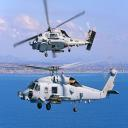helicopter: (16, 44, 122, 104), (17, 2, 91, 60)
